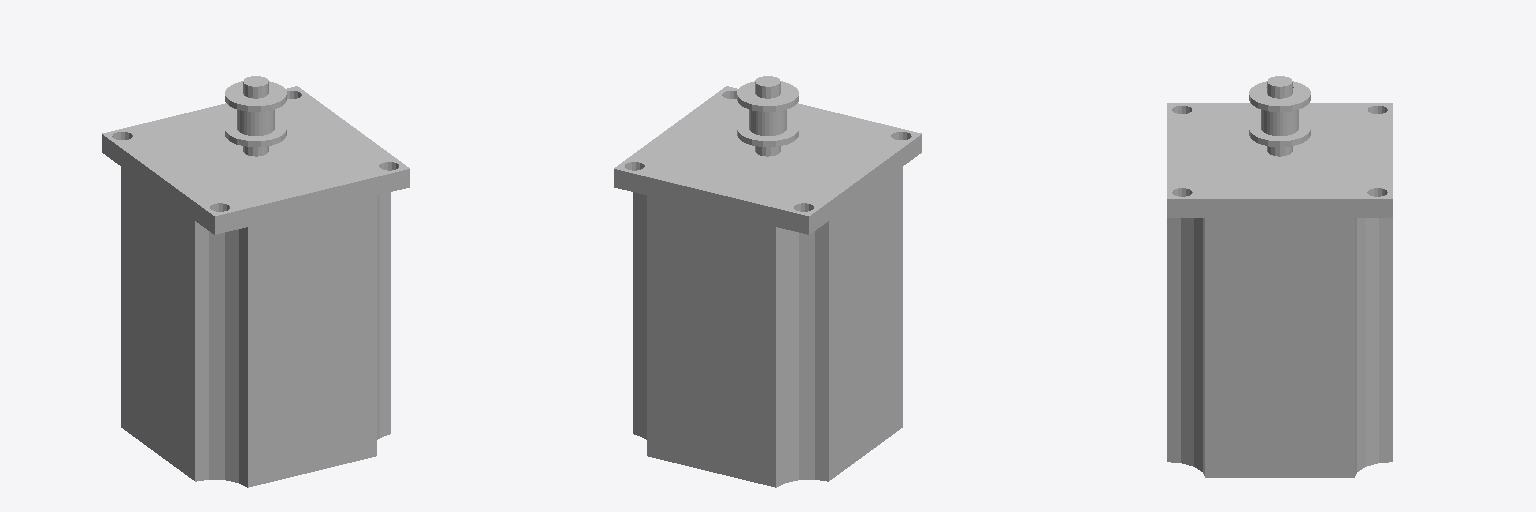
The model's file is zMotor.obj.
3 renders of one model, left to right at view 1: azimuth 30°, elevation 25°; view 2: azimuth 150°, elevation 25°; view 3: azimuth 270°, elevation 25°, orthographic.
Parts seen in each view (by area): view 1: object_1, object_2; view 2: object_1, object_2; view 3: object_1, object_2.
Boxes of the visible parts, box(x1,y1,x2,y2) form: object_1: box(102, 76, 409, 487); object_2: box(225, 81, 286, 146); object_1: box(614, 76, 921, 487); object_2: box(737, 81, 798, 146); object_1: box(1167, 76, 1392, 477); object_2: box(1249, 81, 1310, 146).
Size of the model in its own units: 2.2 by 3.75 by 2.2.